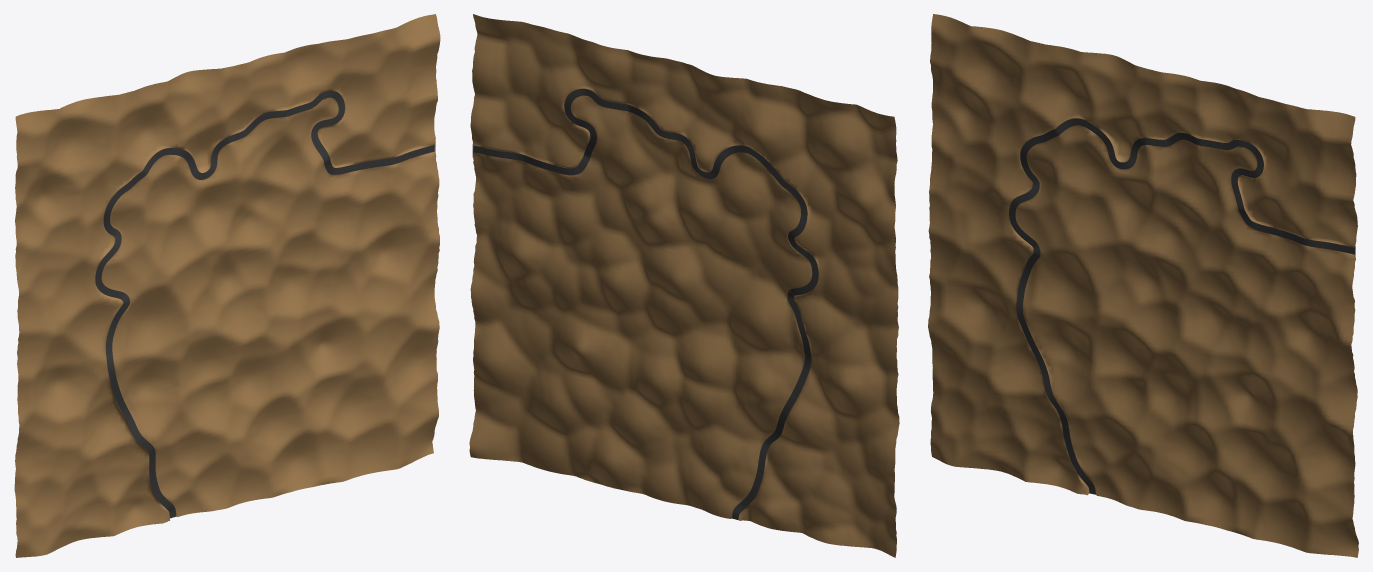
Rendered from Terrain_Export_003.glb.
The picture shows the model from 3 angles, left to right: view 1: azimuth 30°, elevation 25°; view 2: azimuth 150°, elevation 25°; view 3: azimuth 330°, elevation 25°; orthographic projection.
Visible parts, largest first — view 1: Road, Road.001; view 2: Road, Road.001; view 3: Road, Road.001.
Boxes of the visible parts, x1,y1,x2,y2 form: Road: (14, 14, 440, 557); Road.001: (95, 90, 434, 518); Road: (469, 14, 899, 557); Road.001: (473, 88, 818, 519); Road: (928, 14, 1358, 557); Road.001: (1009, 118, 1354, 494).
Bounding box in the file's own units: 1003 × 1002 × 38.49.
